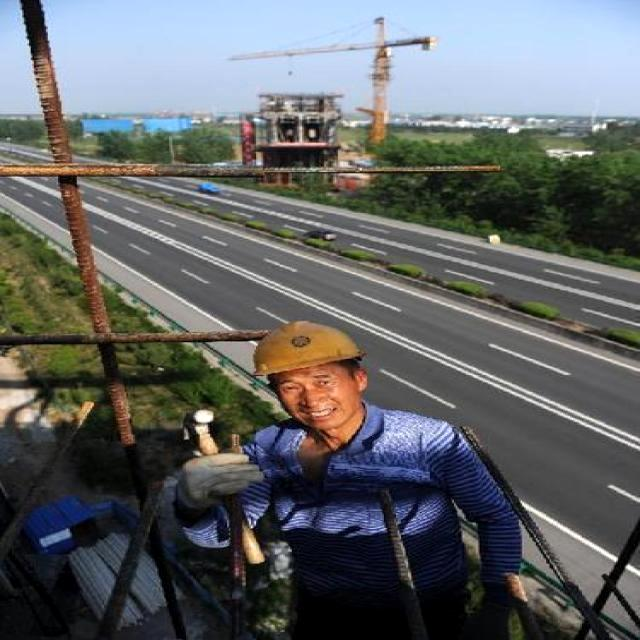hard_hat: (254, 321, 362, 375)
person: (177, 321, 521, 639)
